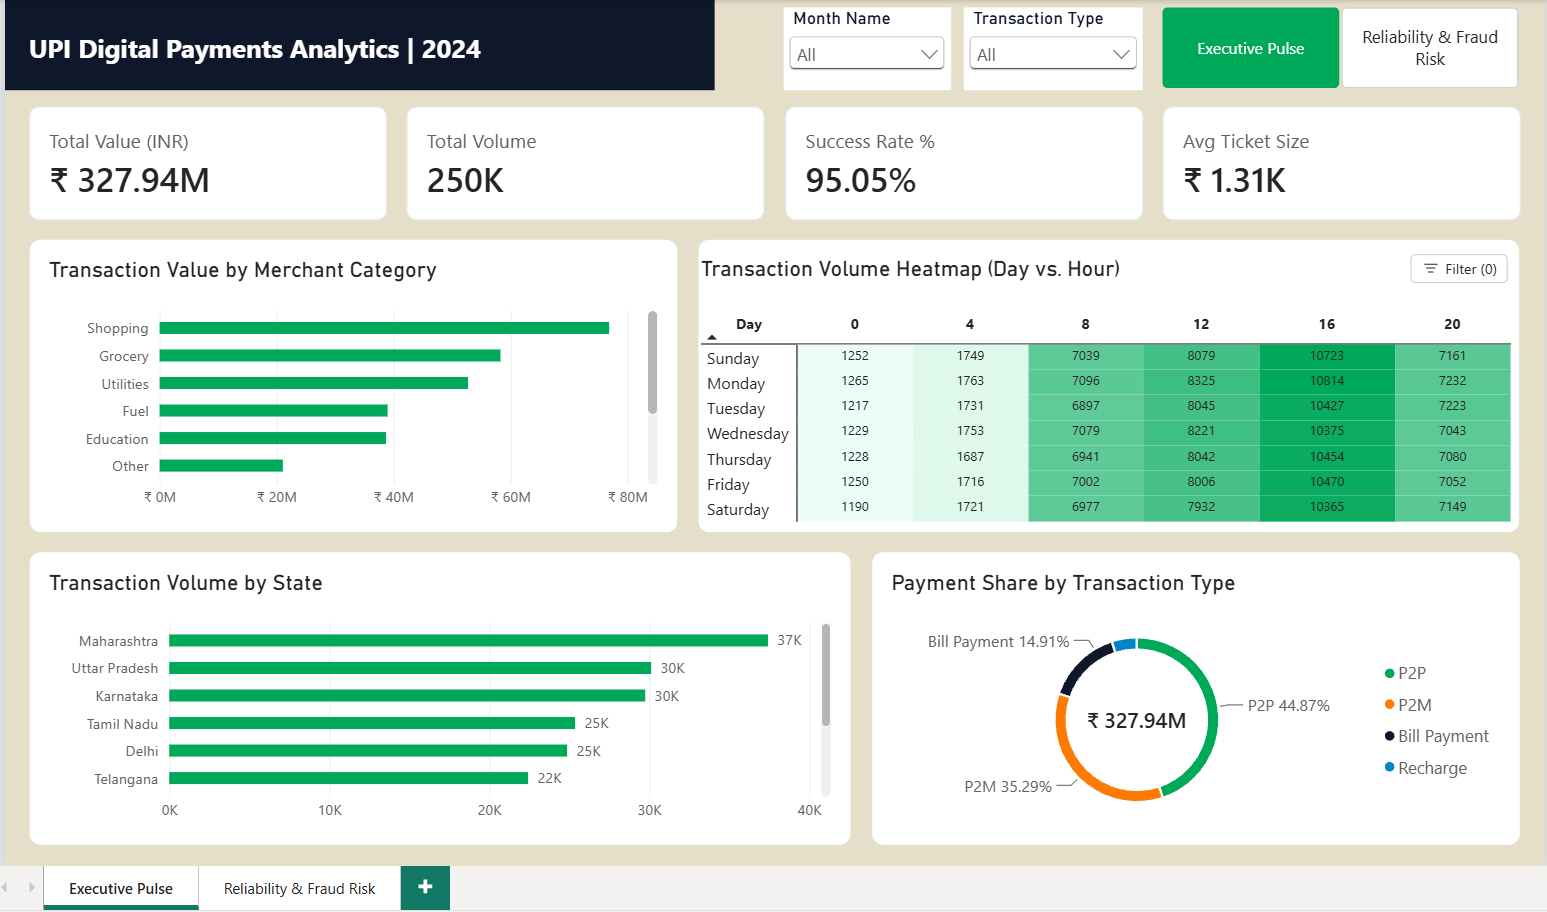

This screenshot's page, from the dashboard's own definition file:
{"tool":"powerbi","page":{"name":"Executive Pulse","canvas":[1280,720],"ordinal":0},"visuals":[{"type":"shape","box":[0,0,590,75],"z":0},{"type":"textbox","box":[19.7,24.9,500,50],"z":2500},{"type":"slicer","fields":{"Values":["Calendar.Month Name"]},"box":[647.8,6.7,138.9,68.9],"z":3250},{"type":"cardVisual","fields":{"Data":["_Measures.Total Value (INR)"]},"box":[20,88,298,95],"z":4000},{"type":"slicer","fields":{"Values":["upi_transactions_2024.transaction type"]},"box":[796.7,6.7,148.9,68.9],"z":4500},{"type":"cardVisual","fields":{"Data":["_Measures.Total Volume"]},"box":[334,88,298,95],"z":5000},{"type":"cardVisual","fields":{"Data":["_Measures.Success Rate %"]},"box":[648,88,298,95],"z":6000},{"type":"cardVisual","fields":{"Data":["_Measures.Avg Ticket Size"]},"box":[962,88,298,95],"z":7000},{"type":"clusteredBarChart","title":"Transaction Value by Merchant Category","fields":{"Category":["upi_transactions_2024.merchant_category"],"Y":["_Measures.Total Value (INR)"]},"box":[20,198,540,245],"z":8000},{"type":"pivotTable","title":"Transaction Volume Heatmap (Day vs. Hour)","fields":{"Columns":["upi_transactions_2024.hour_of_day (bins)"],"Rows":["upi_transactions_2024.day_of_week"],"Values":["_Measures.Total Volume"]},"box":[576,198,684,245],"z":9000},{"type":"clusteredBarChart","title":"Transaction Volume by State","fields":{"Category":["upi_transactions_2024.sender_state"],"Y":["_Measures.Total Volume"]},"box":[20,458,684,245],"z":10000},{"type":"donutChart","title":"Payment Share by Transaction Type","fields":{"Category":["upi_transactions_2024.transaction type"],"Y":["_Measures.Total Value (INR)"]},"box":[720,458,540,245],"z":11000},{"type":"pageNavigator","box":[962.2,6.7,296.7,67.8],"z":11001}]}

Visuals, with their boxes on the page's 1280x720 design canvas (x1, y1, x2, y2). These are canvas units, not pixel positions in the 1547x912 screenshot, which may show the page scaled, cropped or inside an application window:
shape: 0:0:590:75
textbox: 20:25:520:75
slicer - Calendar.Month Name: 648:7:787:76
cardVisual - _Measures.Total Value (INR): 20:88:318:183
slicer - upi_transactions_2024.transaction type: 797:7:946:76
cardVisual - _Measures.Total Volume: 334:88:632:183
cardVisual - _Measures.Success Rate %: 648:88:946:183
cardVisual - _Measures.Avg Ticket Size: 962:88:1260:183
"Transaction Value by Merchant Category" clusteredBarChart: 20:198:560:443
"Transaction Volume Heatmap (Day vs. Hour)" pivotTable: 576:198:1260:443
"Transaction Volume by State" clusteredBarChart: 20:458:704:703
"Payment Share by Transaction Type" donutChart: 720:458:1260:703
pageNavigator: 962:7:1259:74
